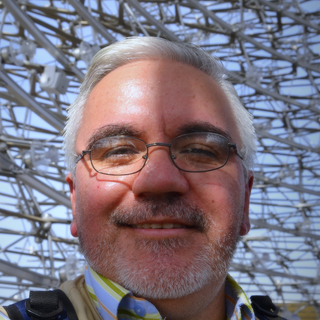eye: (176, 142, 221, 163), (98, 144, 144, 161)
